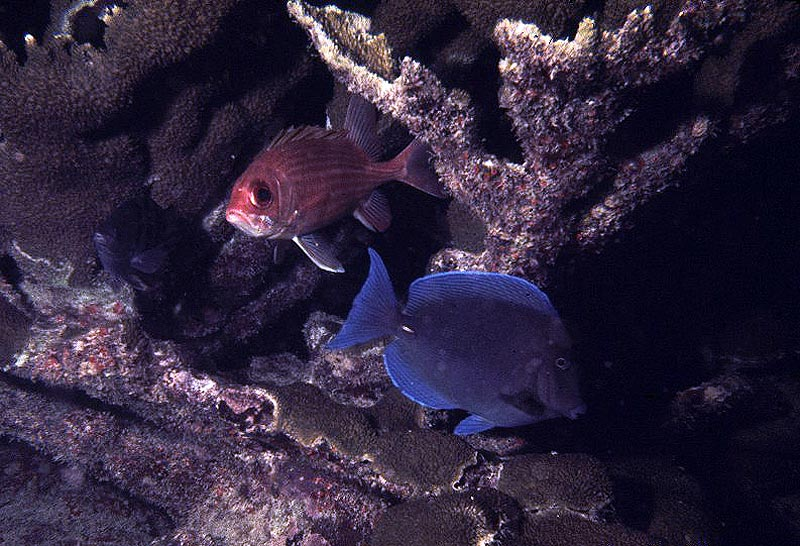Acanthurus_coeruleus: (335, 247, 586, 440)
